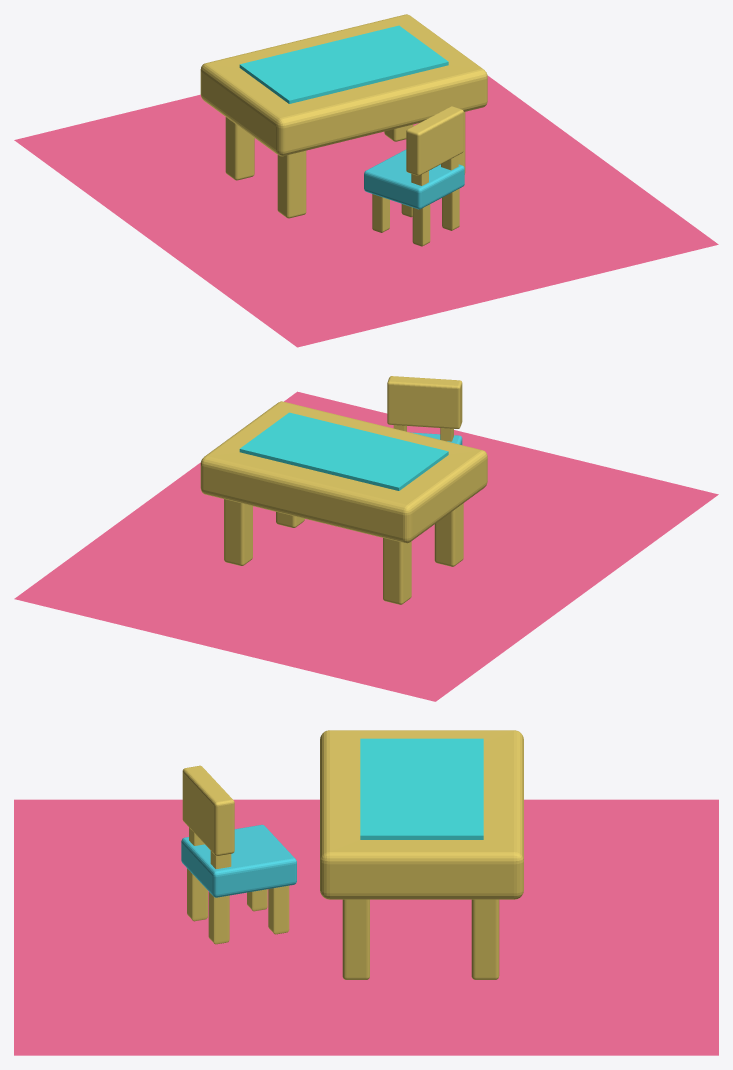
File: desk.glb
The picture shows the model from 3 angles, top to bottom: view 1: azimuth 30°, elevation 25°; view 2: azimuth 150°, elevation 25°; view 3: azimuth 270°, elevation 25°; orthographic projection. The views are drawn at different scales.
Parts seen in each view (by area): view 1: Plane, Cube, Cube.005, Cube.006, Cube.001, Cube.004, Cube.007, Cube.008, Cube.009; view 2: Plane, Cube, Cube.006, Cube.004, Cube.003, Cube.001; view 3: Plane, Cube, Cube.005, Cube.006, Cube.003, Cube.002, Cube.008, Cube.010, Cube.007.
Part boxes in pixels (bbox=[...]): Plane: bbox=[14, 75, 718, 347]; Cube: bbox=[200, 14, 487, 156]; Cube.005: bbox=[364, 149, 464, 209]; Cube.006: bbox=[406, 106, 463, 175]; Cube.001: bbox=[277, 150, 306, 218]; Cube.004: bbox=[225, 117, 254, 180]; Cube.007: bbox=[412, 204, 430, 246]; Cube.008: bbox=[442, 188, 459, 230]; Cube.009: bbox=[372, 194, 389, 232]; Plane: bbox=[14, 391, 718, 701]; Cube: bbox=[200, 401, 487, 543]; Cube.006: bbox=[387, 376, 462, 428]; Cube.004: bbox=[383, 538, 411, 604]; Cube.003: bbox=[224, 499, 252, 565]; Cube.001: bbox=[434, 503, 463, 566]; Plane: bbox=[14, 799, 718, 1055]; Cube: bbox=[320, 730, 523, 899]; Cube.005: bbox=[181, 824, 296, 897]; Cube.006: bbox=[182, 765, 234, 855]; Cube.003: bbox=[471, 899, 499, 979]; Cube.002: bbox=[342, 899, 369, 979]; Cube.008: bbox=[208, 891, 229, 944]; Cube.010: bbox=[268, 885, 289, 934]; Cube.007: bbox=[187, 868, 207, 921].
Bounding box in the file's own units: 5.94 × 1.59 × 6.91.
